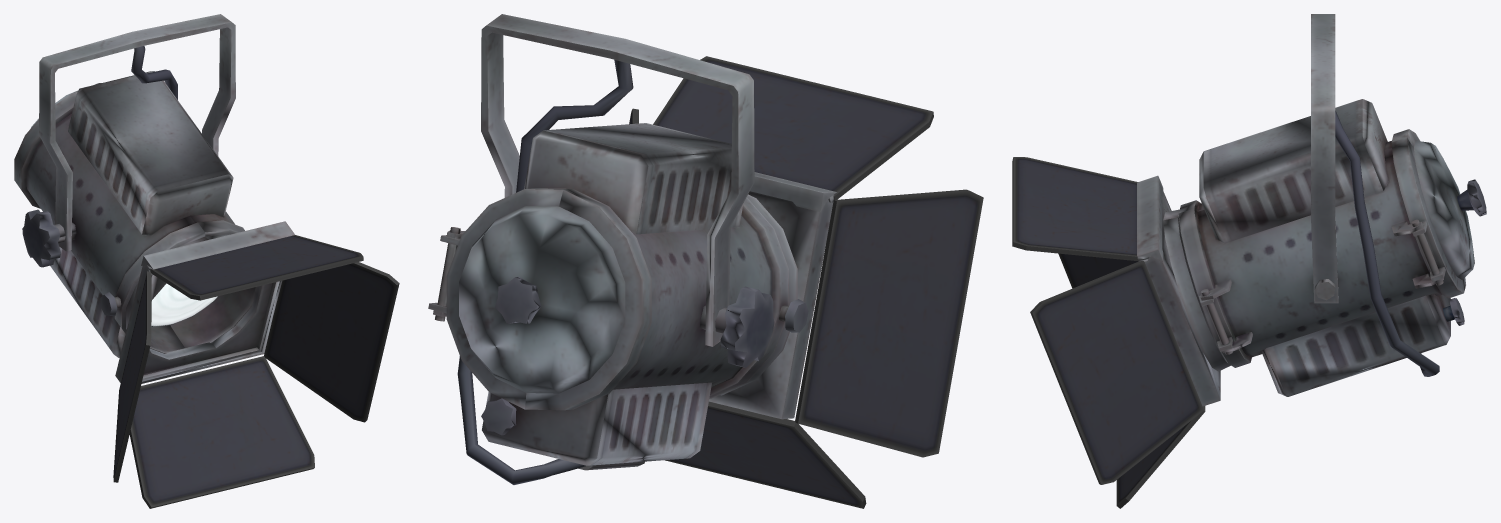
The model's file is spotlight-bf2894.glb.
3 renders of one model, left to right at view 1: azimuth 30°, elevation 25°; view 2: azimuth 150°, elevation 25°; view 3: azimuth 270°, elevation 25°, orthographic. The views are drawn at different scales.
Parts seen in each view (by area): view 1: PropMesh; view 2: PropMesh; view 3: PropMesh.
Boxes of the visible parts, x1,y1,x2,y2 form: PropMesh: (14, 14, 399, 508); PropMesh: (428, 14, 983, 508); PropMesh: (1012, 14, 1486, 508).
Bounding box in the file's own units: 1.04 × 1.5 × 1.57.
Materials: 1 (1 with a texture image).
